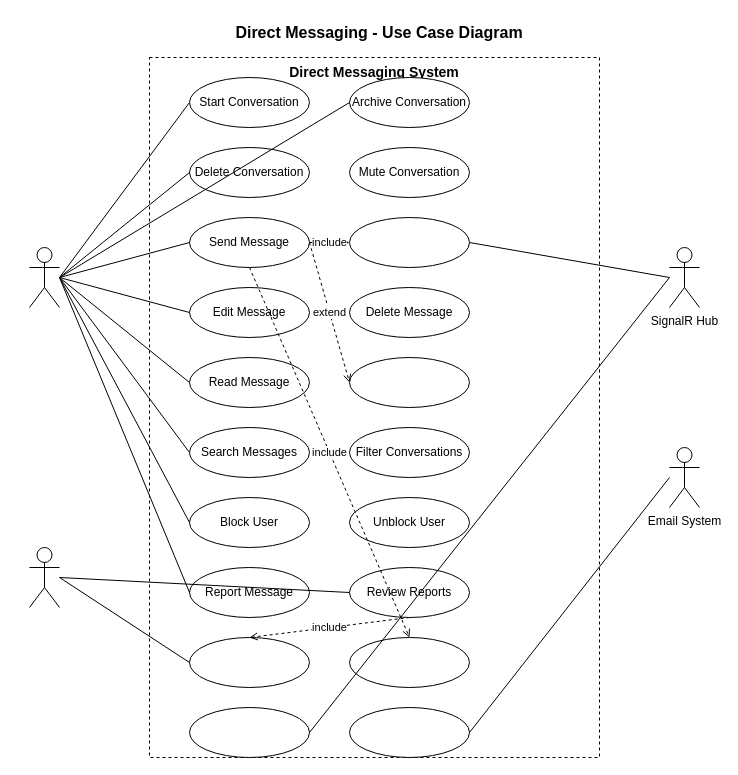
Image size: 738x775. Some labels were removed from this diagram. The centre of each missing label's shape, as x and y in pixels:
Attach File: the point at 409,382
Ban User: the point at 249,662
Filter Content: the point at 409,662
Moderator: the point at 44,577
Receive Message: the point at 409,242
Send Notification: the point at 409,732
Show Typing Status: the point at 249,732
User: the point at 44,277
